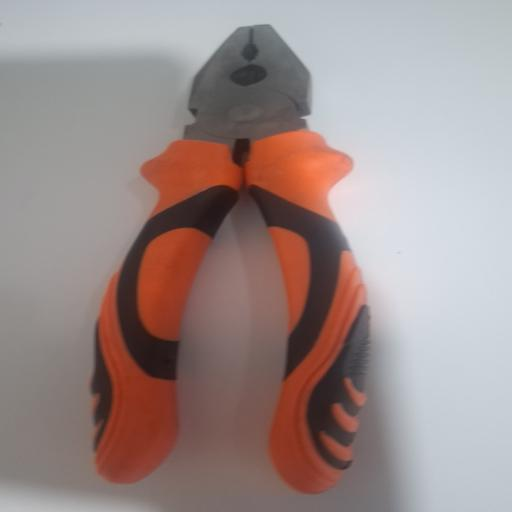alicate: (86, 23, 372, 495)
